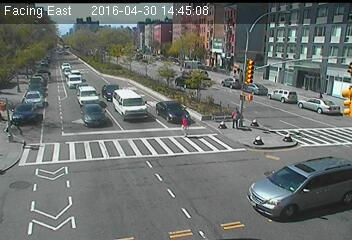neg: (1, 101, 24, 133), (36, 180, 58, 209), (280, 190, 301, 219), (12, 37, 32, 64), (156, 71, 172, 93), (199, 203, 215, 224), (111, 35, 126, 56), (75, 90, 90, 110), (315, 91, 329, 110), (41, 59, 55, 78), (316, 168, 330, 187), (196, 69, 210, 88), (227, 64, 239, 80), (73, 36, 85, 52)
pos: (178, 112, 196, 136), (229, 105, 246, 128)
